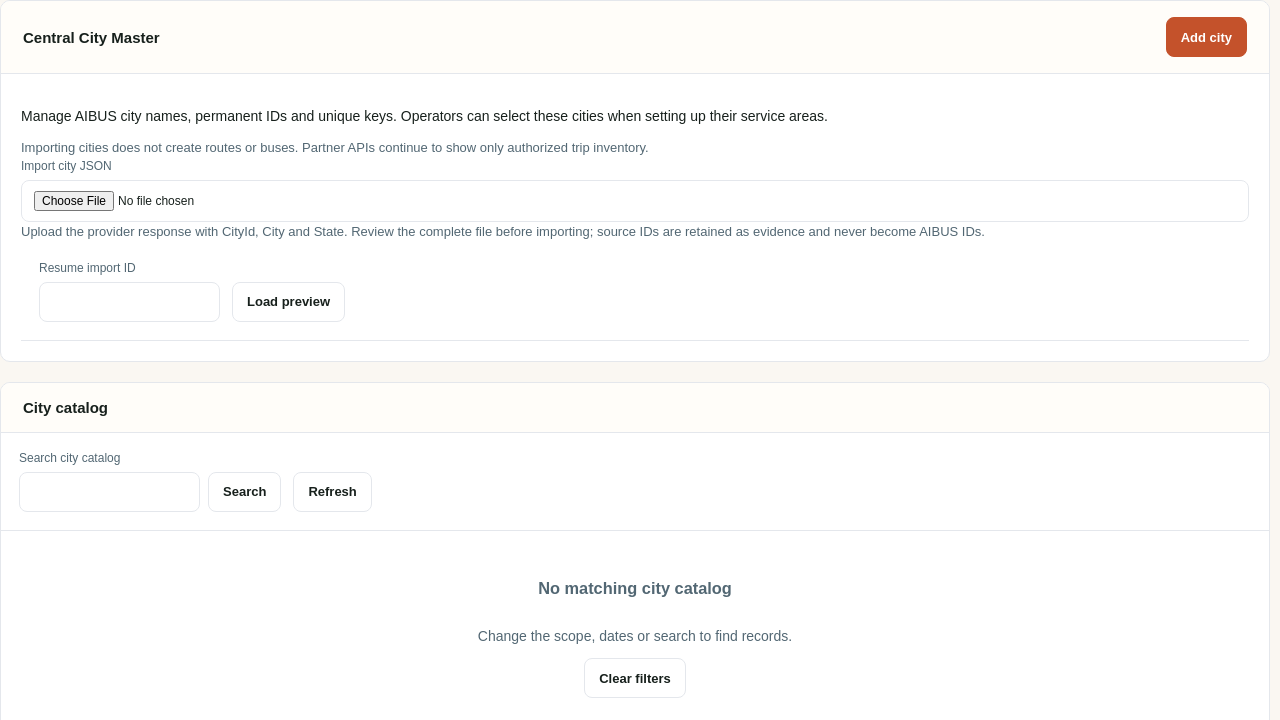
Test case: requires a deliberate reviewed password action before creating a catalog city
The width and height of the screenshot is (1280, 720).
Click the button "Add city" at [1206, 37], box [1166,17,1247,57]
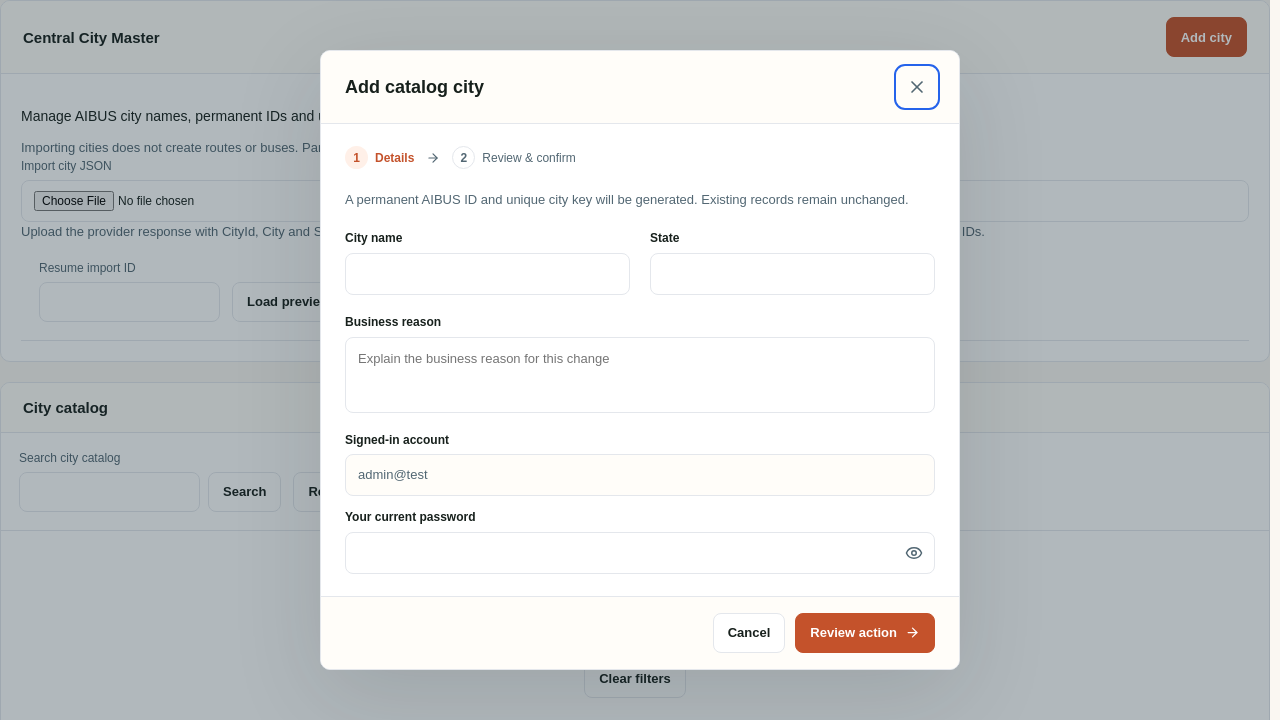
Result: the text "permanent AIBUS ID" is shown at [345,192,909,207]
